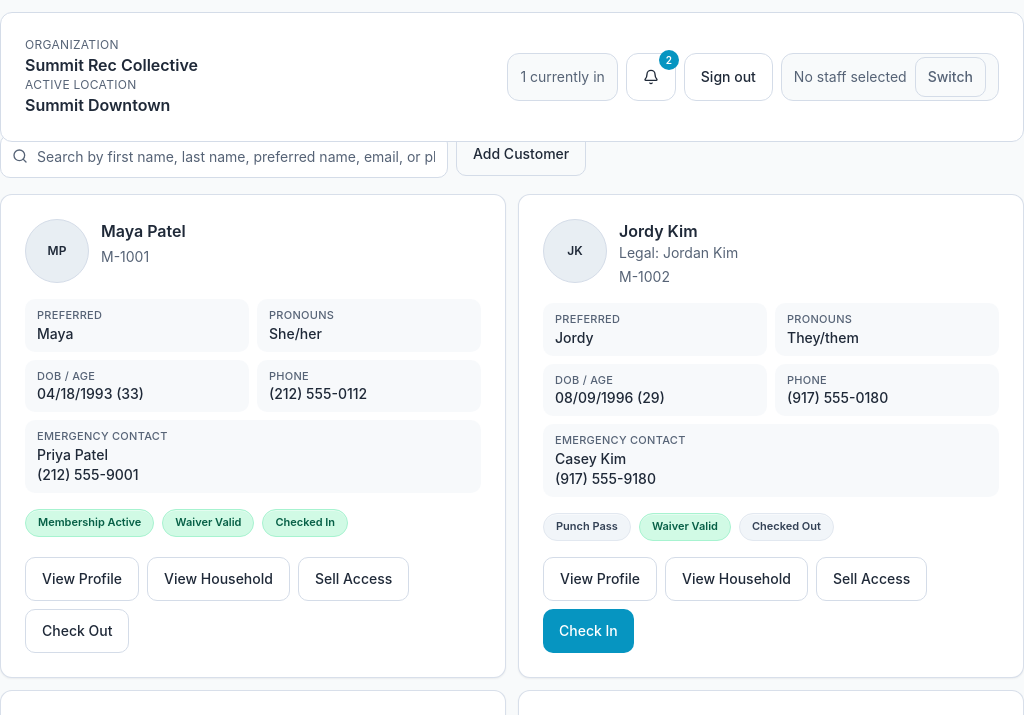
it: CustomerList › customers page check out works with active staff and changes badge
This screenshot has width=1024, height=715.
Click the button "Switch" at (950, 77), box [915,57,986,97]
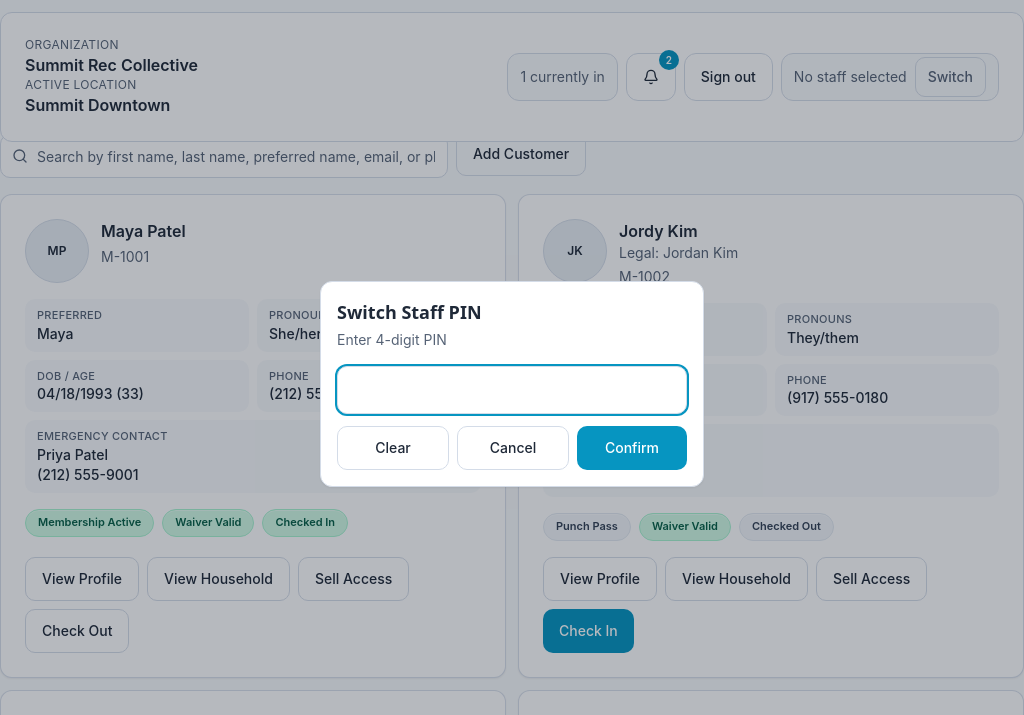
Type "1111" into the password field named "Staff PIN input" at (512, 390), box [337,366,687,414]
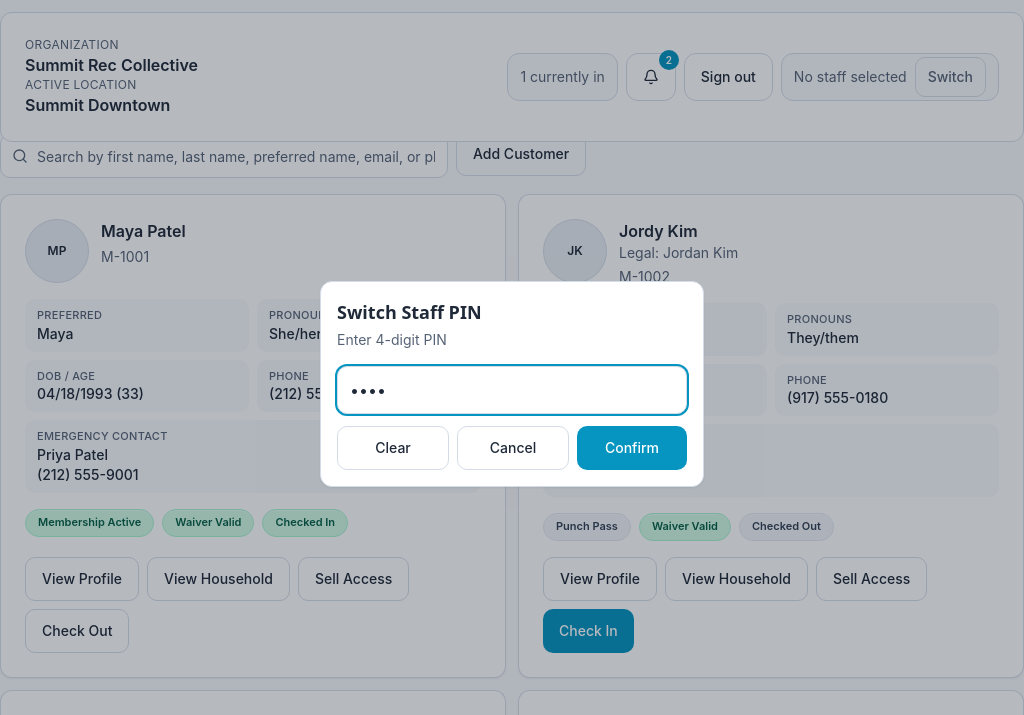
Click the button "Confirm" at (632, 448), box [577,426,687,470]
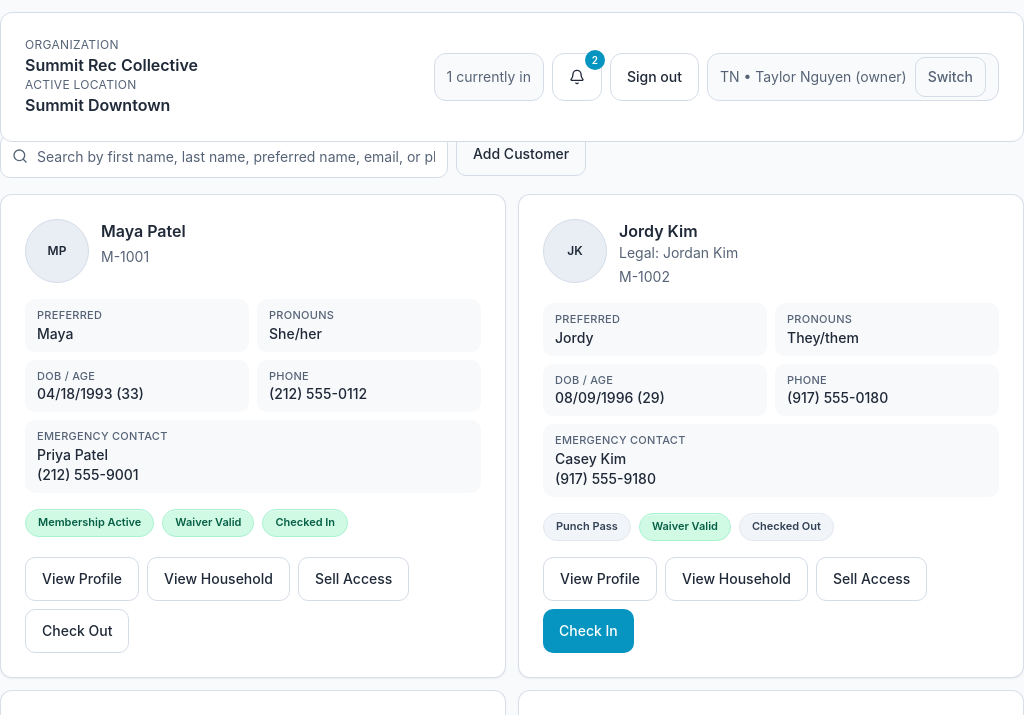
Click the button "Check Out" at (77, 630), box [25,608,130,652]
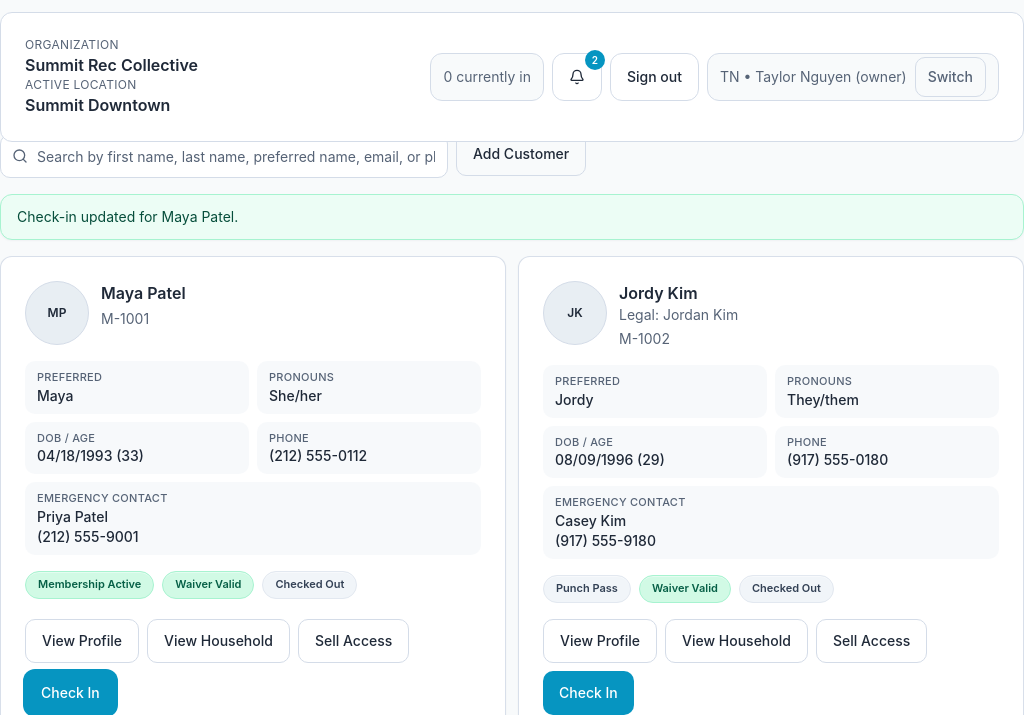
Expected: the message shows "Check-in updated for Maya Patel", [17,208,238,225]
Expected: the text "Checked Out" in the row of "Membership Active" is shown, [275,577,344,591]
